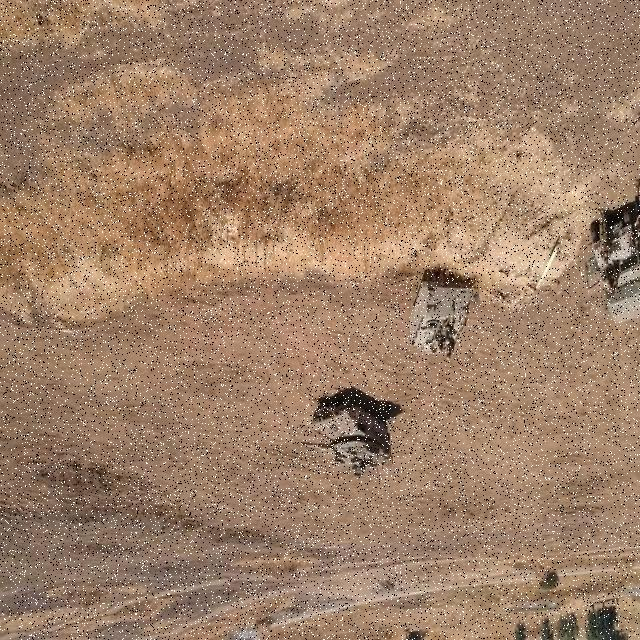MIL_MBT: (296, 393, 393, 476)
